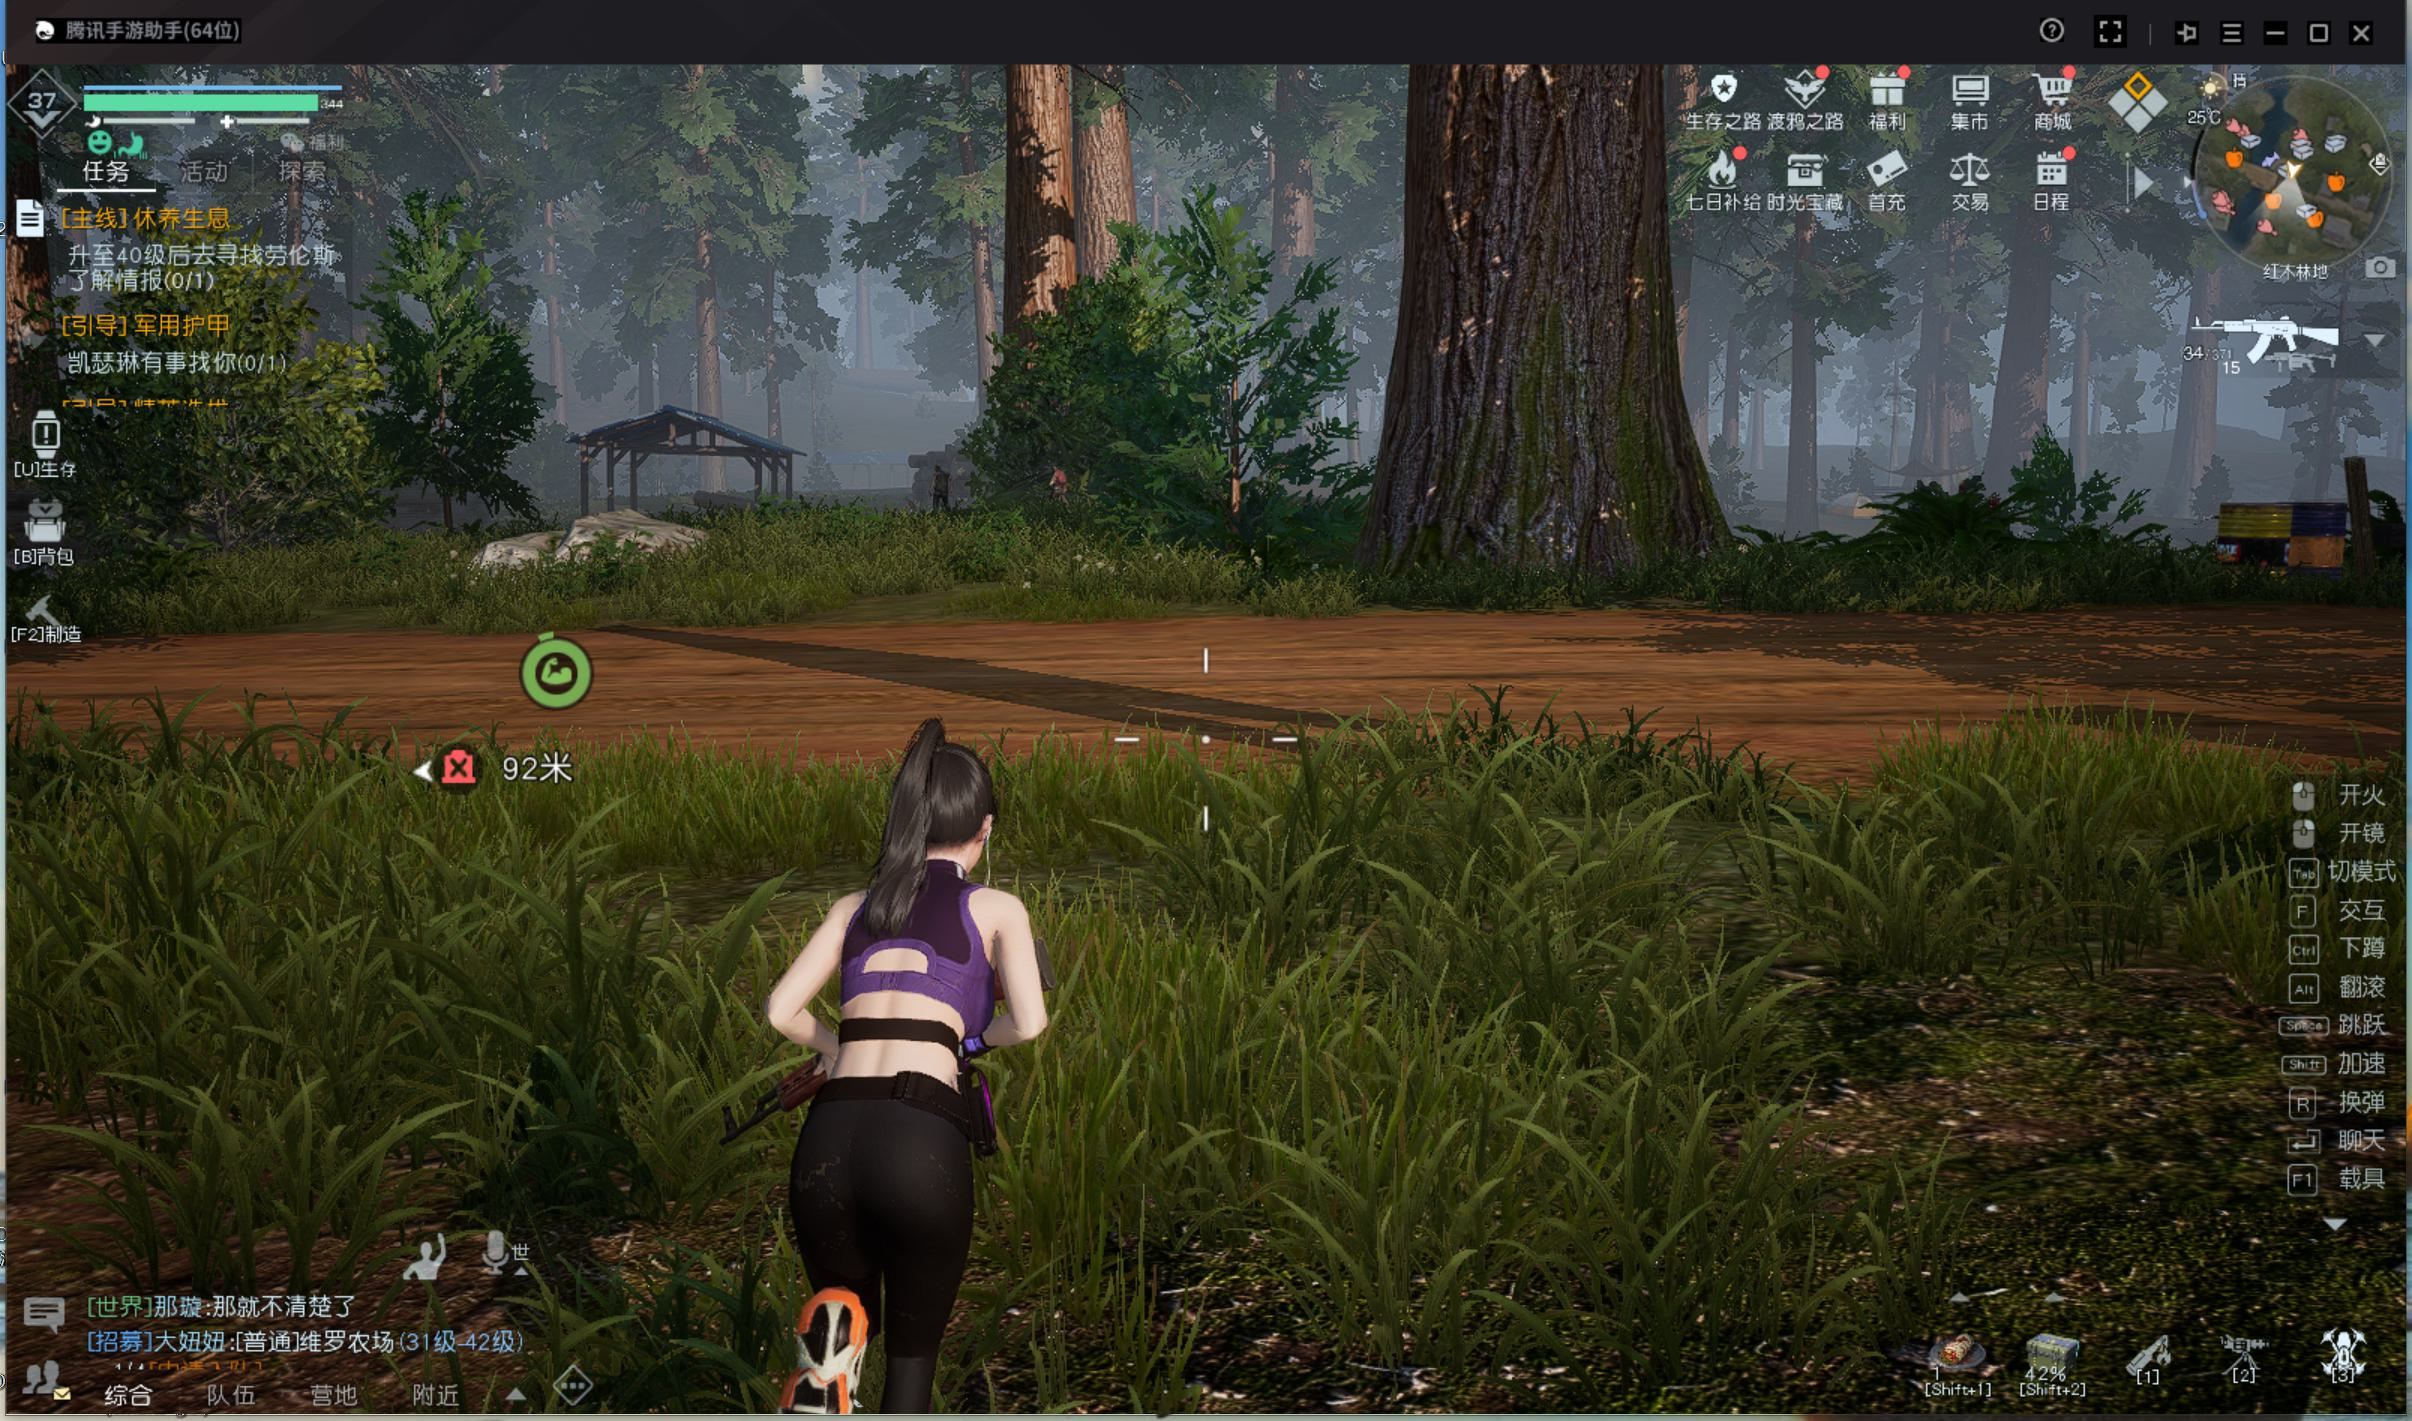tree: (1358, 96, 1715, 597), (993, 117, 1105, 558), (1987, 244, 2053, 514), (1781, 299, 1823, 553)
